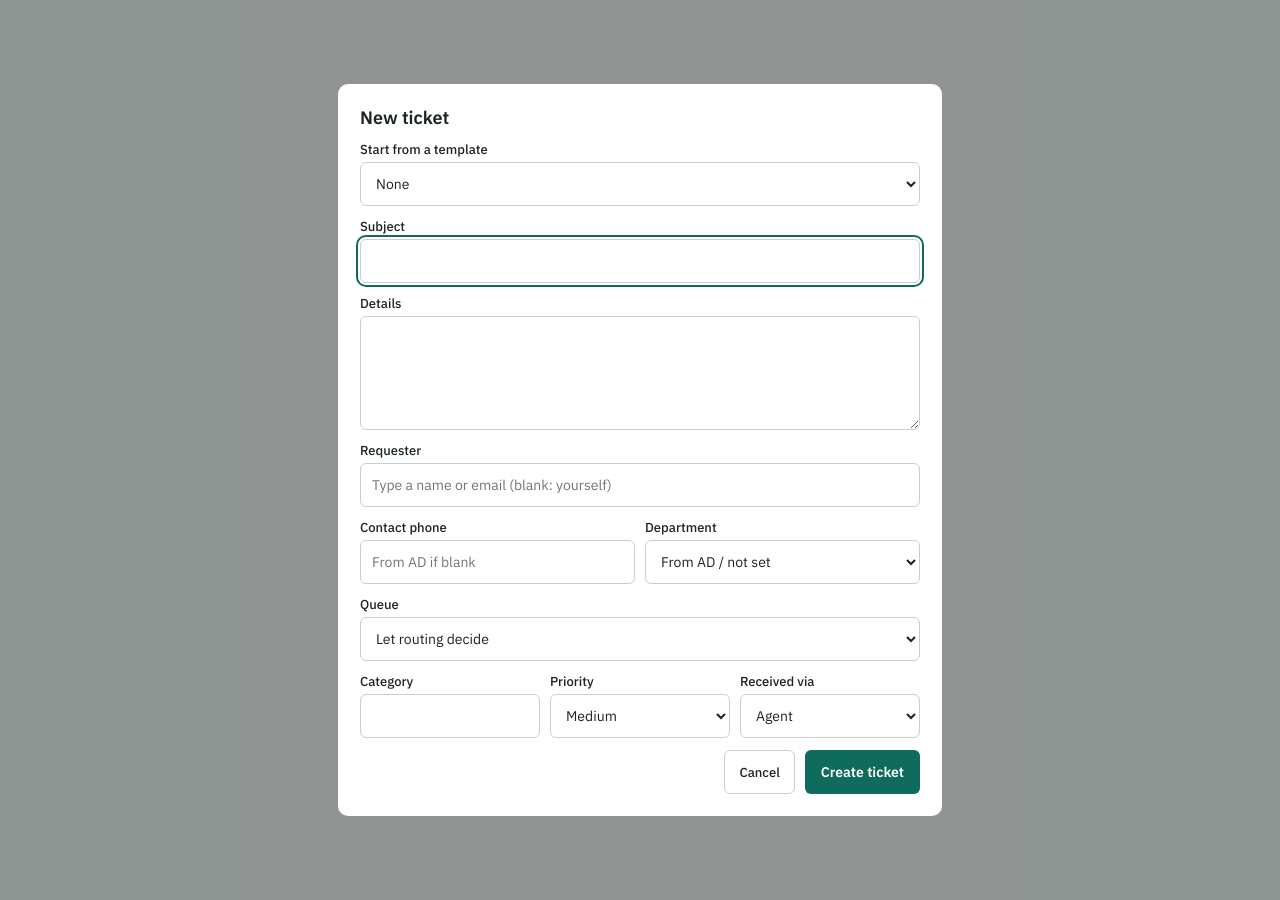
Test case: template defaults fill a fresh ticket; an explicitly selected routing choice stays blank
Select "New starter" in the dropdown labelled "Start from a template": (640, 184) [360,162,920,206]
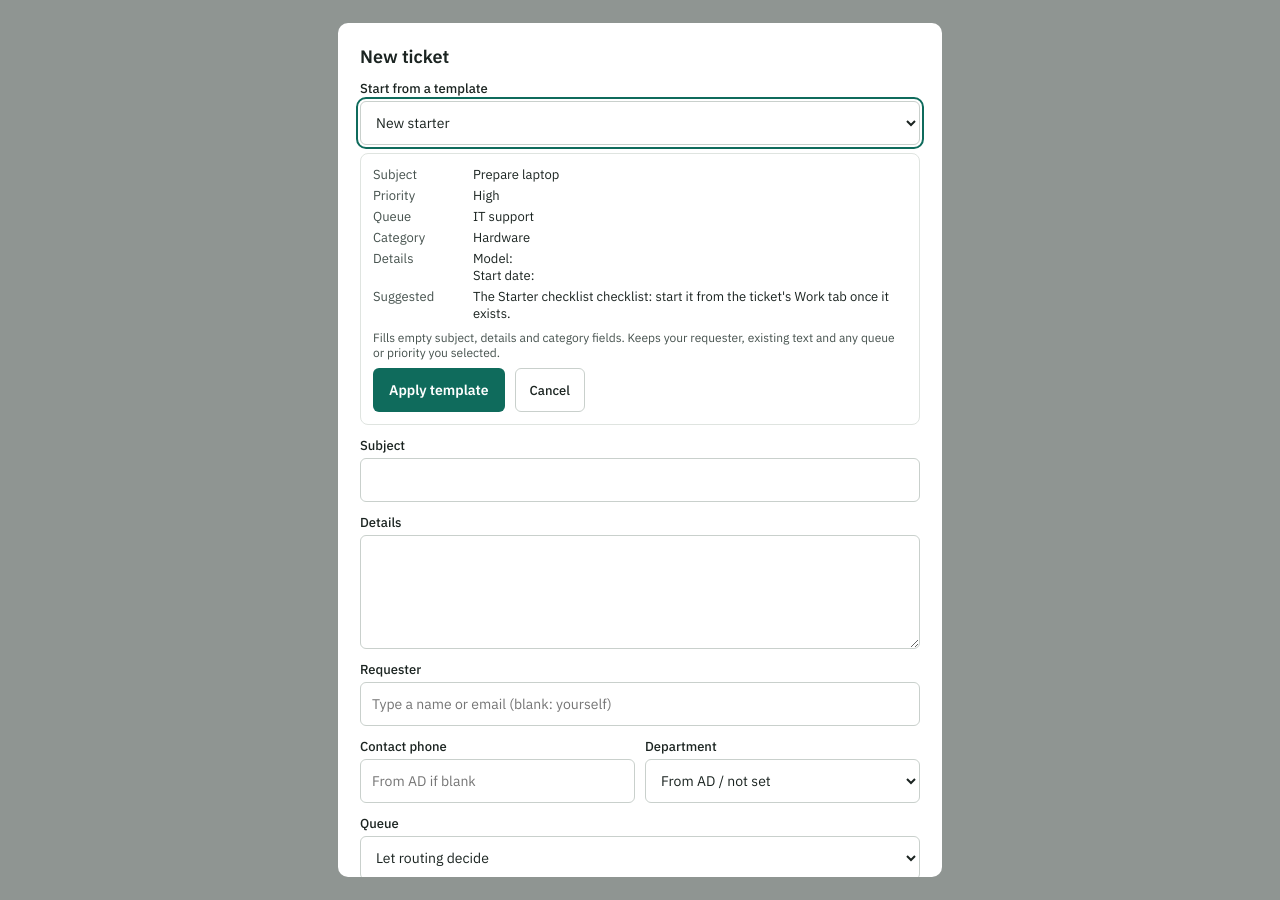
Select "Service desk" in the dropdown labelled "Queue": (640, 858) [360,836,920,880]
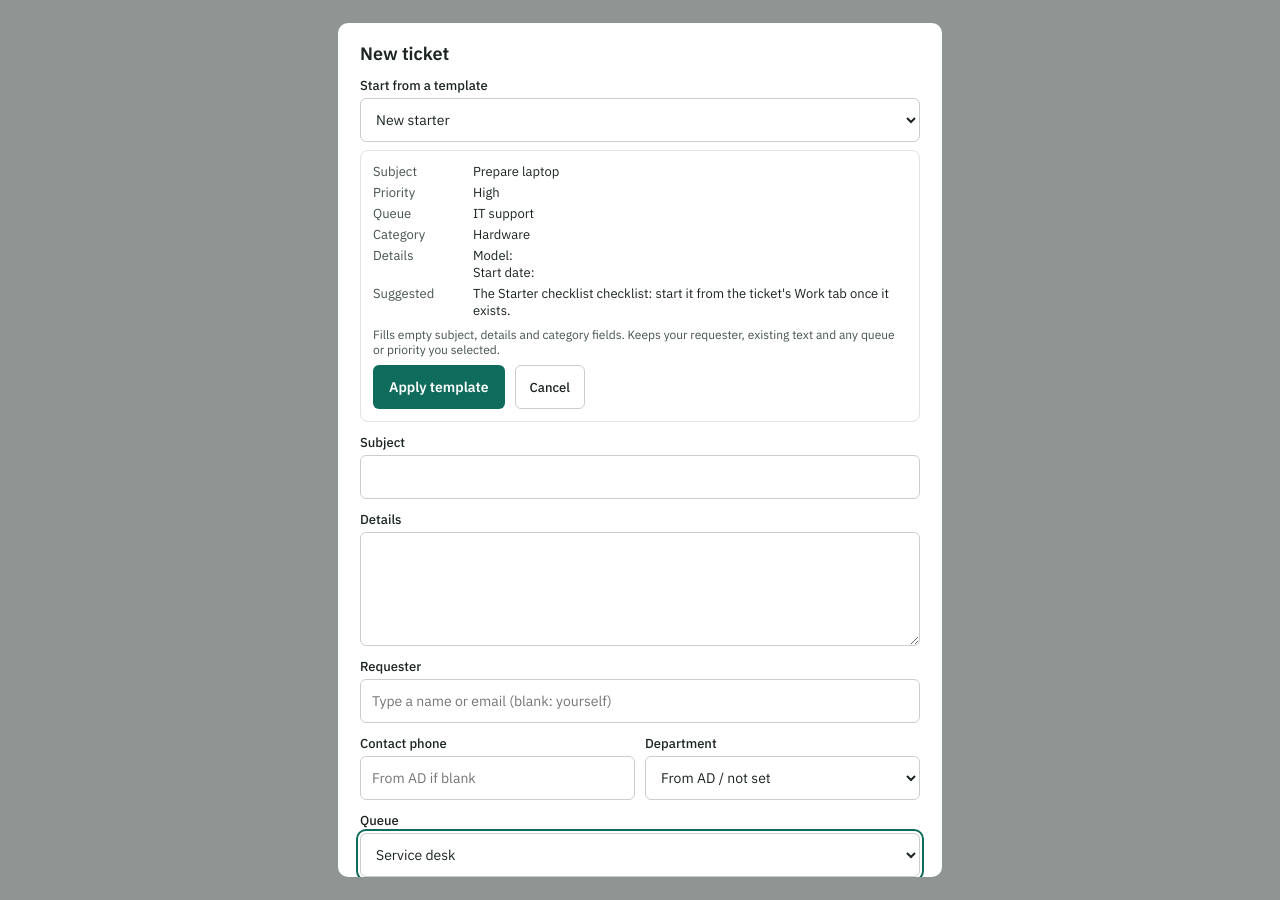
Select "Let routing decide" in the dropdown labelled "Queue": (640, 855) [360,833,920,877]
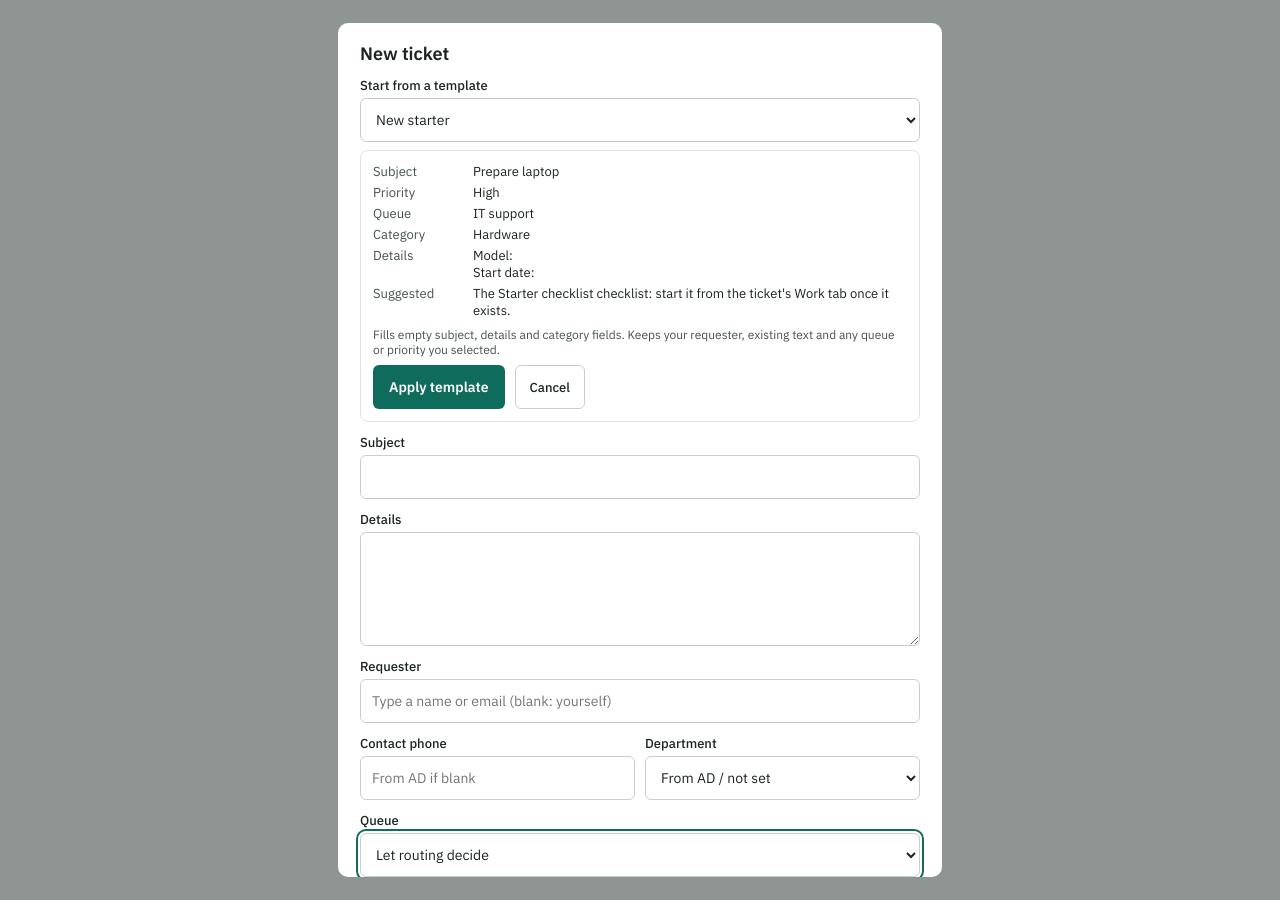
Click the button "Apply template": (439, 387) [373,365,505,409]
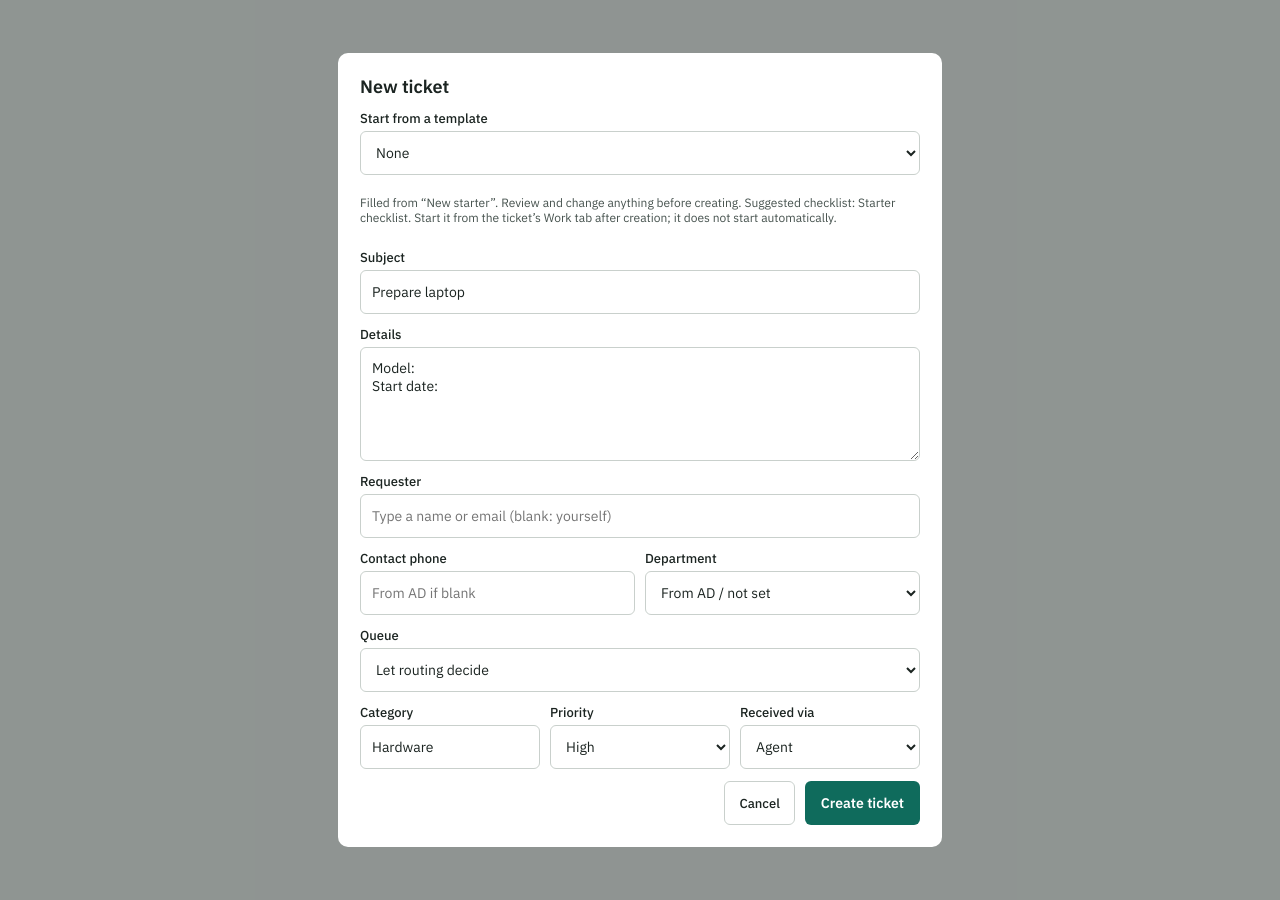
Check: the field labelled "Subject" holds "Prepare laptop", box [360,270,920,314]
Check: the dropdown labelled "Priority" shows "High", box [550,725,730,769]
